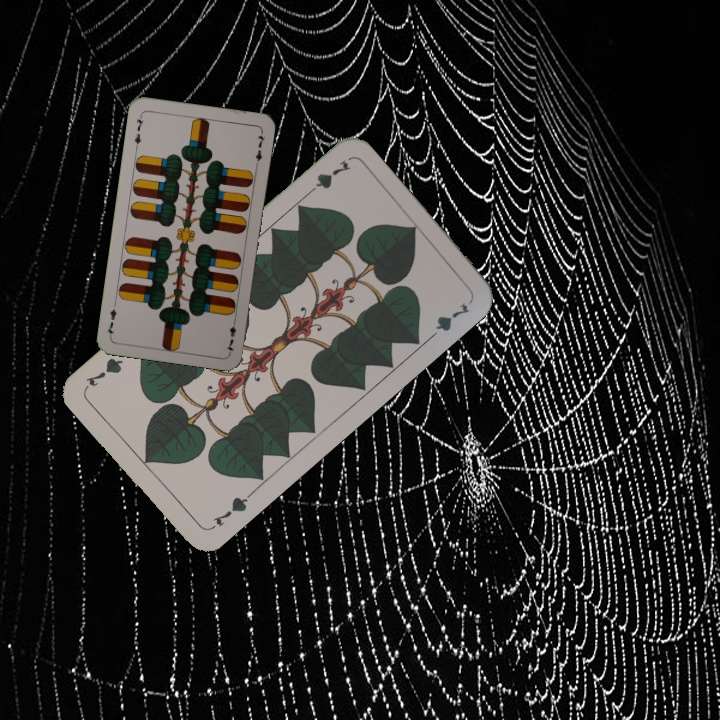E7: (222, 314, 239, 355), (130, 111, 146, 152)
G7: (301, 155, 353, 199), (207, 489, 255, 532)
